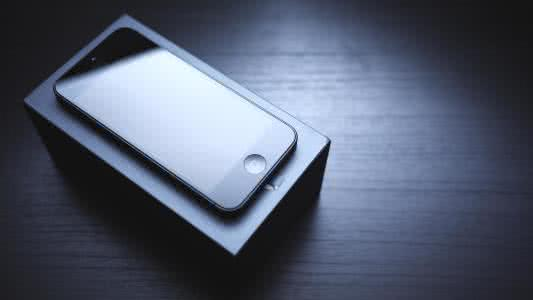phone: (64, 78, 280, 179)
